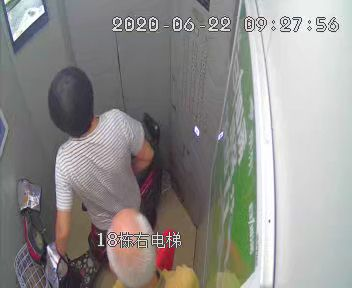Electric-bicycle: (14, 113, 162, 288)
